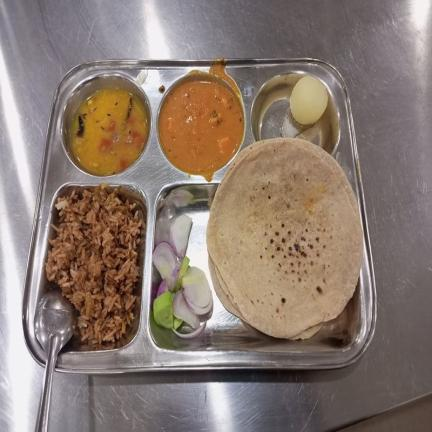Chana Dal: (68, 86, 148, 177)
Chhaina: (291, 76, 329, 125)
Fried Rice: (45, 182, 142, 347)
Paneer: (159, 81, 243, 173)
Plate: (22, 58, 377, 373)
Roti: (207, 138, 363, 339)
Salad: (151, 215, 213, 339)
